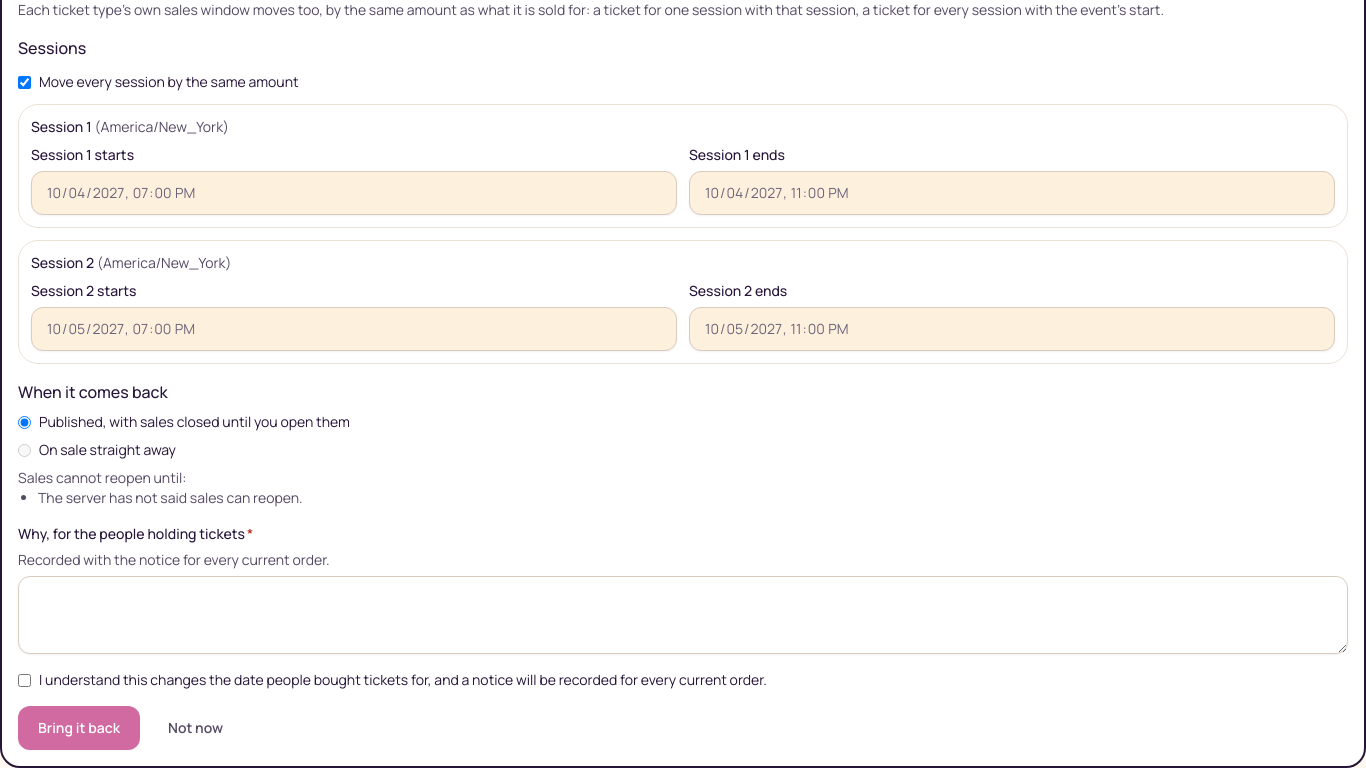
Scenario: bringing a postponed event back › shows the refusal and its problems, and says nothing changed
(page scrolled)
Type "Monsoon." into the text box labelled "Why, for the people holding tickets*".
click(683, 615); type("Monsoon.")  # box x1=18 y1=576 x2=1348 y2=654
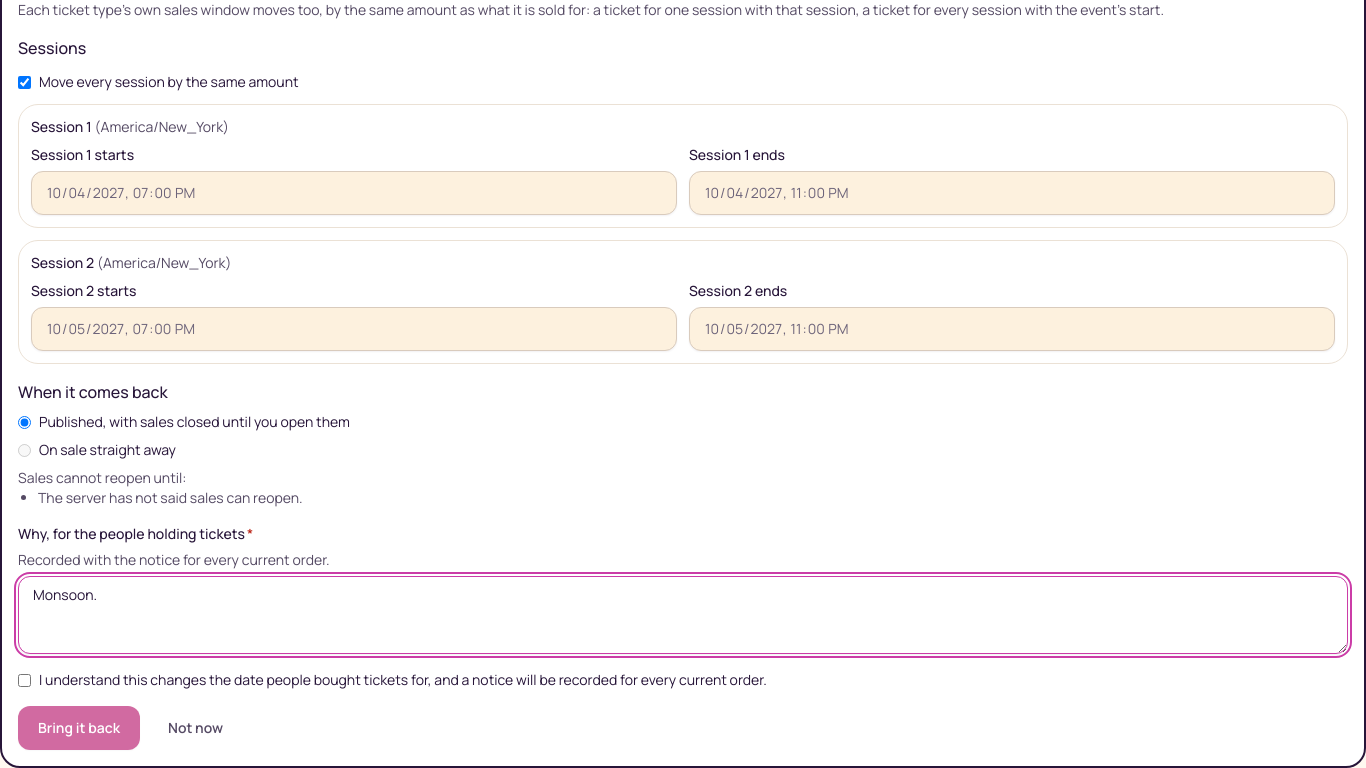
Click the checkbox labelled "I understand this changes the date".
click(24, 680)  # box x1=18 y1=674 x2=31 y2=687
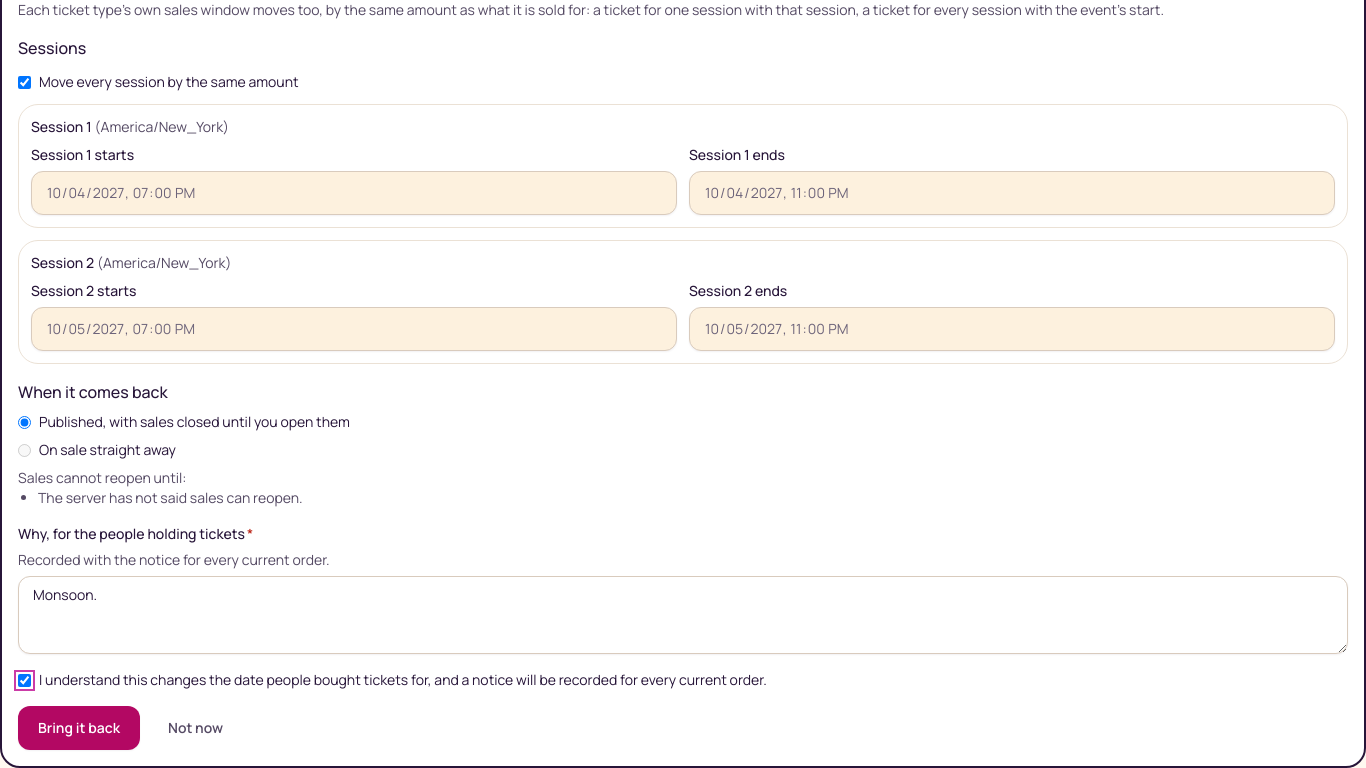
Click the button "Bring it back".
click(79, 728)  # box x1=18 y1=706 x2=140 y2=750
(page scrolled)
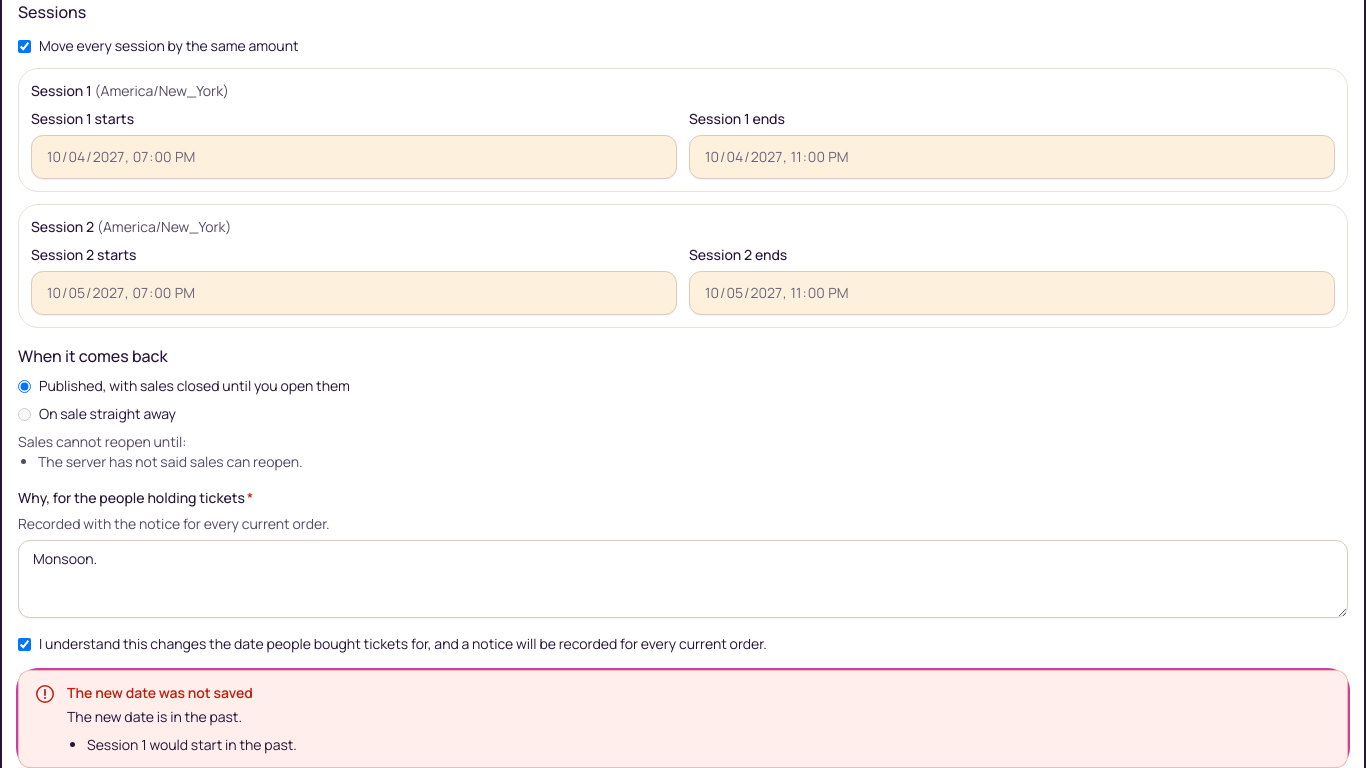
Expected: the list item "Session 1 would start in the past." is shown, x1=87 y1=735 x2=297 y2=754
Expected: the text "The new date was not saved" is shown, x1=67 y1=683 x2=253 y2=702
